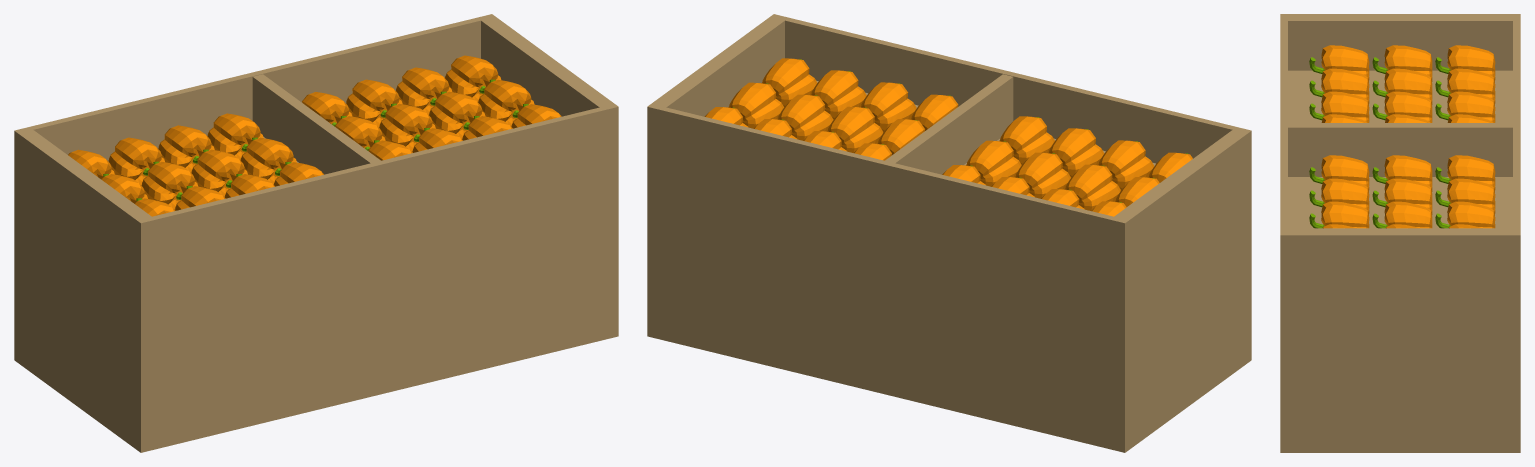
The model's file is orange_pepper_box.gltf.
3 views of the same model, side by side, from view 1: azimuth 30°, elevation 25°; view 2: azimuth 150°, elevation 25°; view 3: azimuth 270°, elevation 25° (orthographic). The views are drawn at different scales.
Visible parts, largest first — view 1: Cube; view 2: Cube; view 3: Cube.
Part boxes in pixels (x1,y1,x2,y2): Cube: [14, 14, 618, 452]; Cube: [647, 14, 1251, 452]; Cube: [1280, 14, 1520, 452].
Size of the model in its own units: 9.22 by 4.23 by 4.23.
